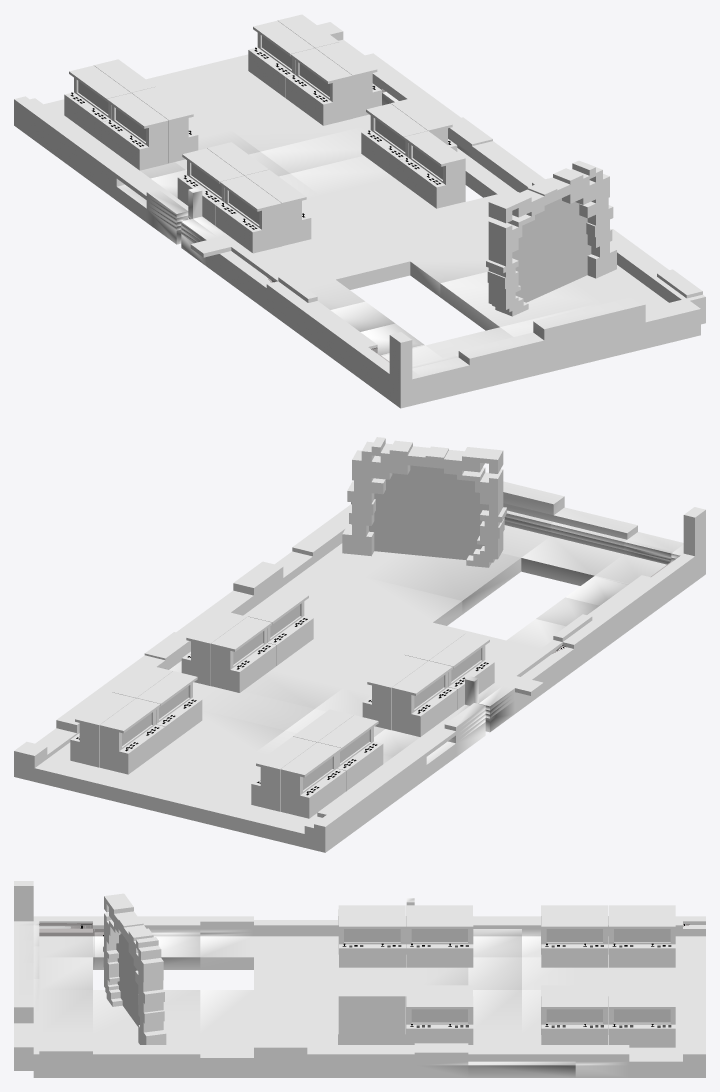
File: Arcade.fbx
3 renders of one model, top to bottom at view 1: azimuth 30°, elevation 25°; view 2: azimuth 150°, elevation 25°; view 3: azimuth 270°, elevation 25°, orthographic. The views are drawn at different scales.
Parts seen in each view (by area): view 1: Arcade Boss Floor, ArkV2.003, Veil.002, Arcade Borne 1.002, Arcade Borne 1.010, Arcade Borne 1.026, Arcade Borne 1.034, Arcade Borne 1, Arcade Borne 1.008, Arcade Borne 1.024, Arcade Borne 1.032, Arcade Borne 1.035 (+6 smaller); view 2: Arcade Boss Floor, ArkV2.003, Veil.002, Arcade Borne 1, Arcade Borne 1.008, Arcade Borne 1.024, Arcade Borne 1.032, Arcade Borne 1.010, Arcade Borne 1.002, Arcade Borne 1.026, Arcade Borne 1.034, Arcade Borne 1.025 (+6 smaller); view 3: Arcade Boss Floor, ArkV2.003, Arcade Borne 1.027, Arcade Borne 1.033, Arcade Borne 1.025, Arcade Borne 1.035, Arcade Borne 1.010, Arcade Borne 1.001, Arcade Borne 1.003, Arcade Borne 1.009, Veil.002, Arcade Borne 1 (+6 smaller).
Part boxes in pixels (<box>): Arcade Boss Floor: <box>14,22,705,408</box>; ArkV2.003: <box>486,160,616,316</box>; Veil.002: <box>512,198,591,302</box>; Arcade Borne 1.002: <box>286,48,352,125</box>; Arcade Borne 1.010: <box>399,131,465,208</box>; Arcade Borne 1.026: <box>102,93,168,170</box>; Arcade Borne 1.034: <box>215,176,281,253</box>; Arcade Borne 1: <box>248,20,314,98</box>; Arcade Borne 1.008: <box>361,103,427,180</box>; Arcade Borne 1.024: <box>64,65,130,142</box>; Arcade Borne 1.032: <box>177,148,243,225</box>; Arcade Borne 1.035: <box>245,170,311,246</box>; Arcade Boss Floor: <box>14,481,705,852</box>; ArkV2.003: <box>342,437,506,567</box>; Veil.002: <box>369,465,488,559</box>; Arcade Borne 1: <box>99,698,165,774</box>; Arcade Borne 1.008: <box>211,616,276,692</box>; Arcade Borne 1.024: <box>280,742,345,818</box>; Arcade Borne 1.032: <box>392,661,457,736</box>; Arcade Borne 1.010: <box>248,589,313,665</box>; Arcade Borne 1.002: <box>137,671,202,747</box>; Arcade Borne 1.026: <box>318,715,383,791</box>; Arcade Borne 1.034: <box>429,633,494,709</box>; Arcade Borne 1.025: <box>251,736,316,811</box>; Arcade Boss Floor: <box>14,881,705,1077</box>; ArkV2.003: <box>103,893,166,1044</box>; Arcade Borne 1.027: <box>541,916,608,967</box>; Arcade Borne 1.033: <box>406,916,473,967</box>; Arcade Borne 1.025: <box>609,916,675,967</box>; Arcade Borne 1.035: <box>339,916,405,967</box>; Arcade Borne 1.010: <box>338,985,405,1035</box>; Arcade Borne 1.001: <box>609,996,675,1047</box>; Arcade Borne 1.003: <box>541,996,608,1044</box>; Arcade Borne 1.009: <box>406,996,473,1044</box>; Veil.002: <box>116,933,139,1026</box>; Arcade Borne 1: <box>608,985,675,1034</box>.
Bounding box in the file's own units: 4099 × 1482 × 8257.
